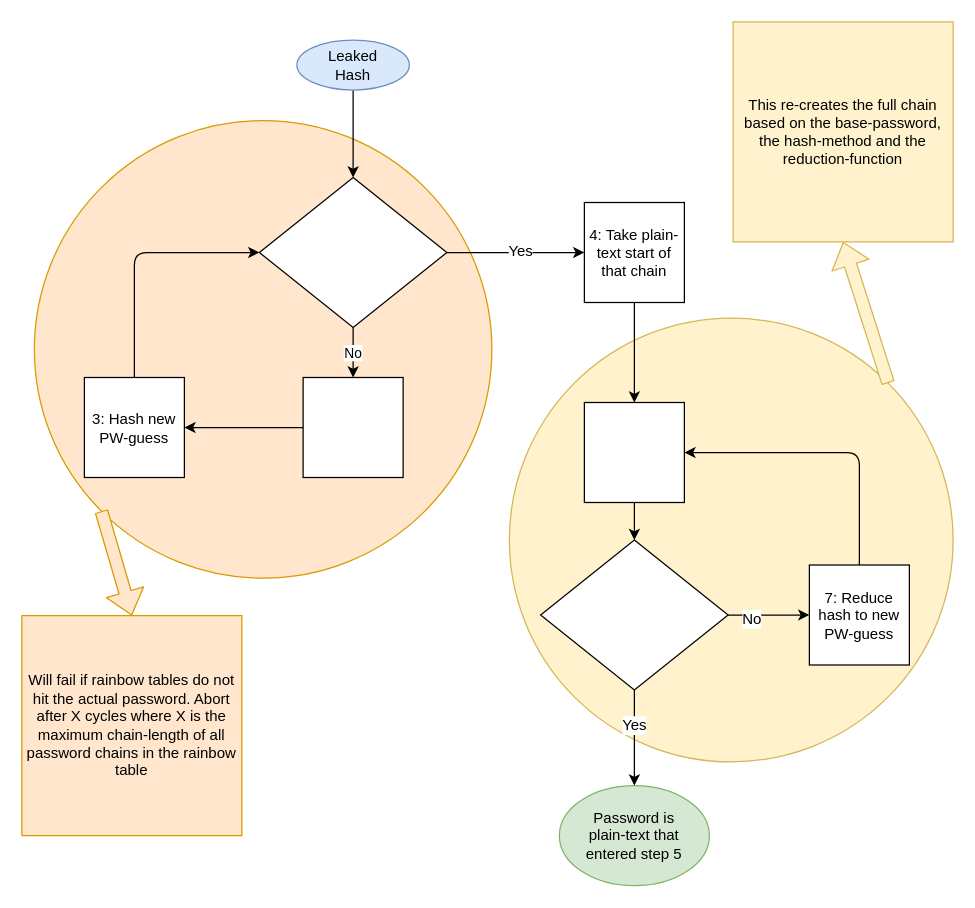
Some shapes in this 975 by 908 pixel diagram are drawn without their labels. Each missing label, with the centre of its shape:
"1: Hash matches any chain-end in Rainbow-table?" goes at point (352, 252).
"2: Reduce hash to new PW-guess" goes at point (352, 427).
"5: Hash plain-text" goes at point (633, 451).
"6: Hash matches Leaked hash?" goes at point (633, 614).
